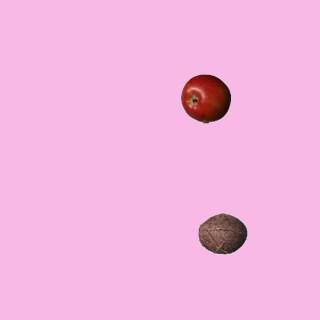Apple Braeburn: (180, 73, 230, 123)
Cocos: (197, 208, 247, 258)
